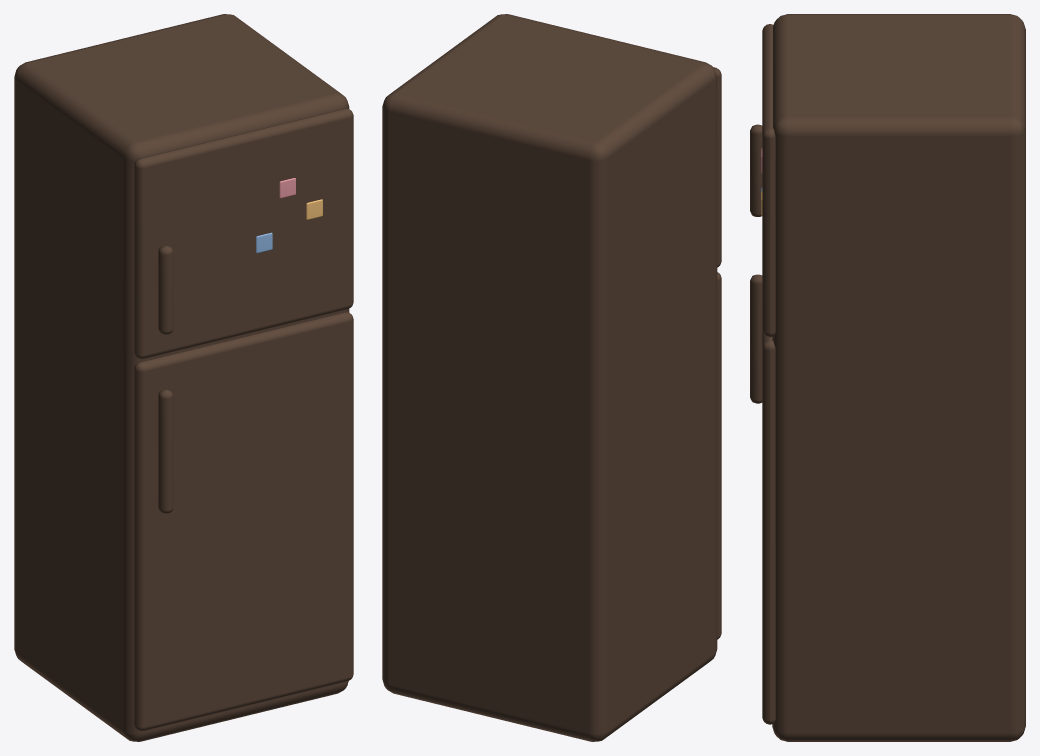
File: fridge.glb
3 renders of one model, left to right at view 1: azimuth 30°, elevation 25°; view 2: azimuth 150°, elevation 25°; view 3: azimuth 270°, elevation 25°, orthographic. The views are drawn at different scales.
Visible parts, largest first — view 1: fridge; view 2: fridge; view 3: fridge.
Boxes of the visible parts, <box> form: fridge: <box>14,14,353,741</box>; fridge: <box>382,14,721,741</box>; fridge: <box>750,14,1025,741</box>.
Bounding box in the file's own units: 0.6688 × 1.71 × 0.6838.
